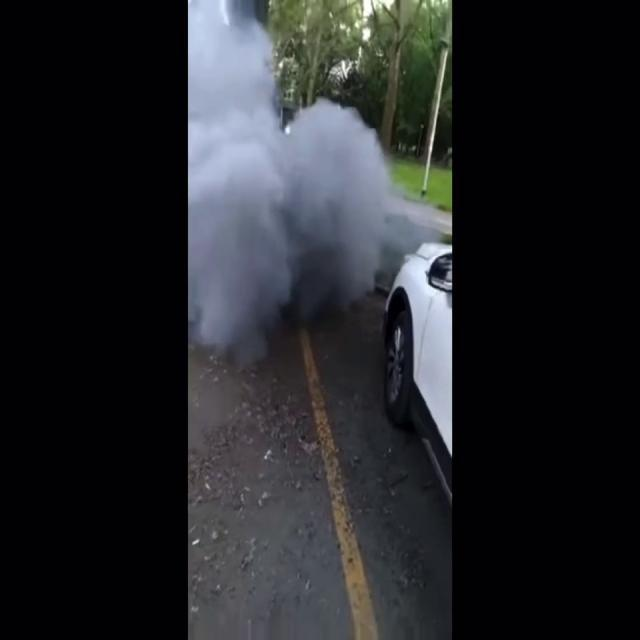Smoke: (188, 47, 410, 357)
